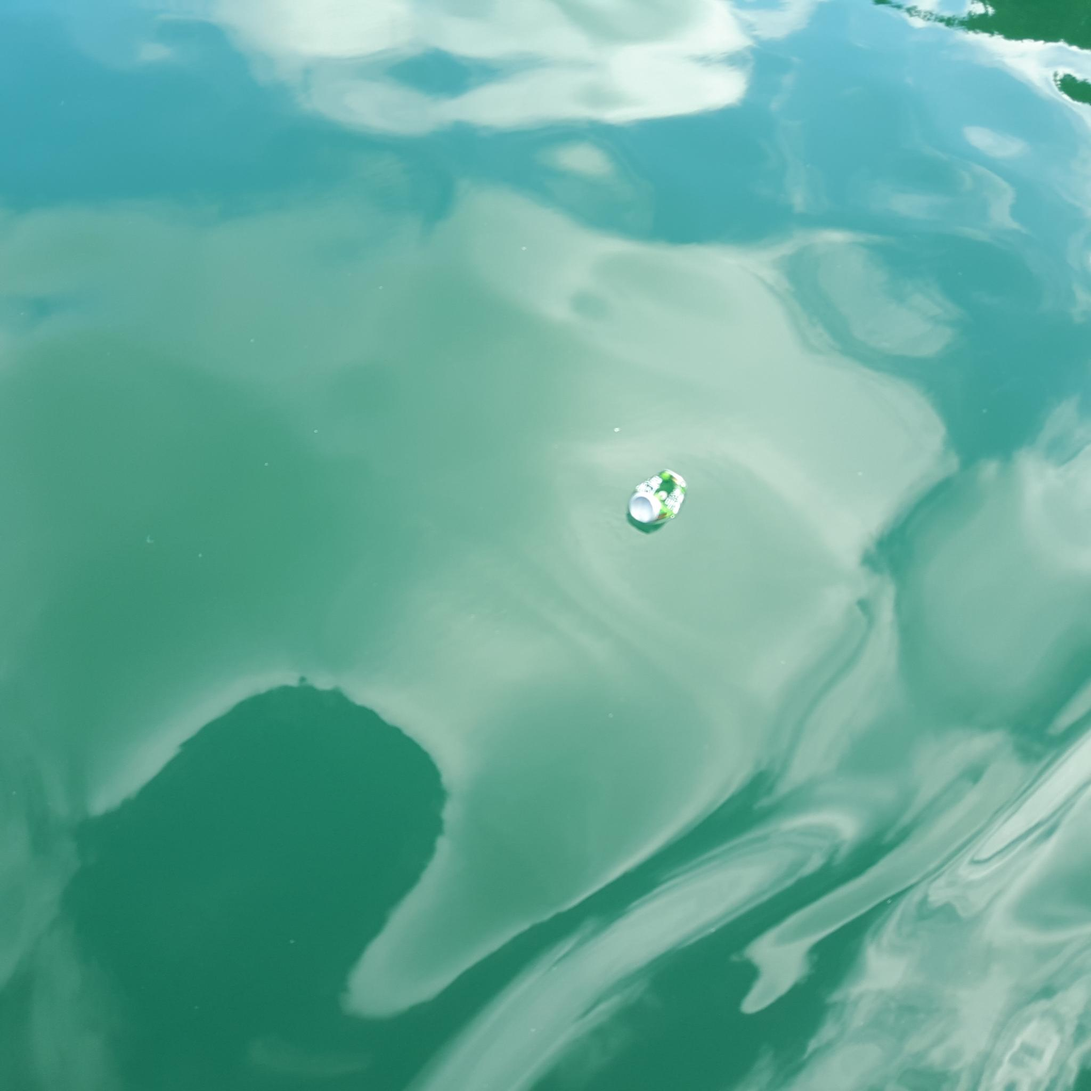sampah_terapung: (630, 469, 688, 527)
